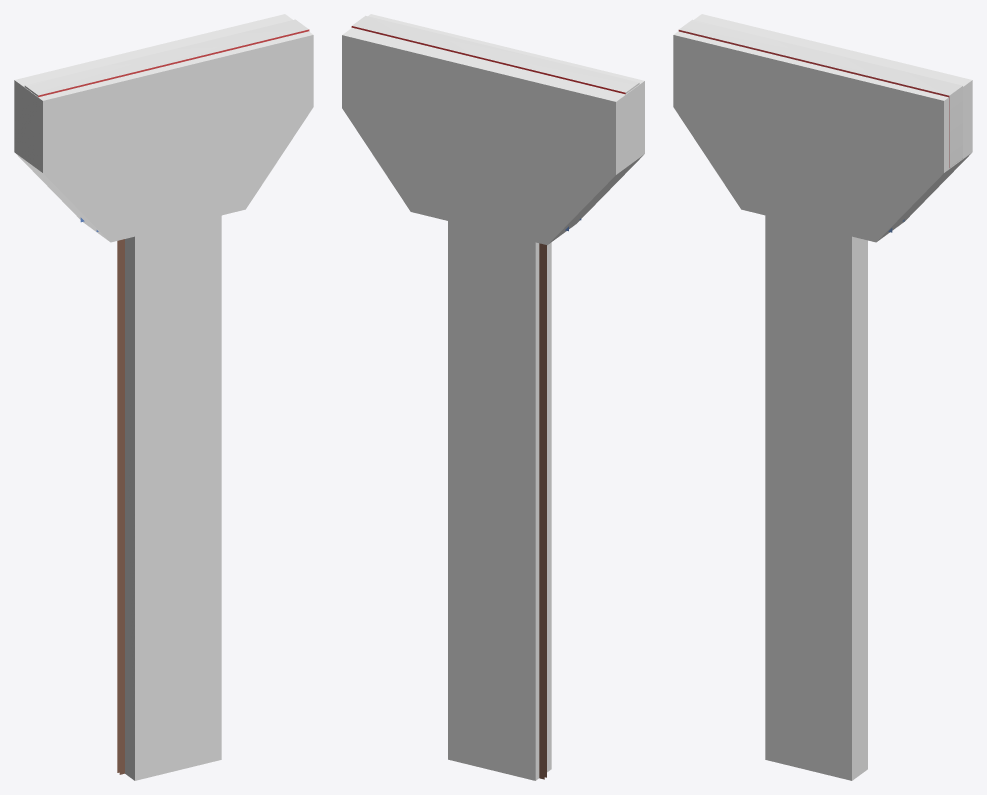
File: s_full_service_sign_001.dae
3 views of the same model, side by side, from view 1: azimuth 30°, elevation 25°; view 2: azimuth 150°, elevation 25°; view 3: azimuth 330°, elevation 25° (orthographic).
Visible parts, largest first — view 1: Colmesh_s_full_service_sign_001-1, s_full_service_sign_001_L45; view 2: Colmesh_s_full_service_sign_001-1, s_full_service_sign_001_L45; view 3: Colmesh_s_full_service_sign_001-1, s_full_service_sign_001_L45.
Boxes of the visible parts, left/top/right/bottom form: Colmesh_s_full_service_sign_001-1: left=14, top=14, right=313, bottom=780; s_full_service_sign_001_L45: left=24, top=19, right=309, bottom=774; Colmesh_s_full_service_sign_001-1: left=342, top=14, right=644, bottom=780; s_full_service_sign_001_L45: left=351, top=15, right=639, bottom=779; Colmesh_s_full_service_sign_001-1: left=673, top=14, right=972, bottom=780; s_full_service_sign_001_L45: left=678, top=19, right=962, bottom=232.
Bounding box in the file's own units: 2.75 × 0.5005 × 6.82.
